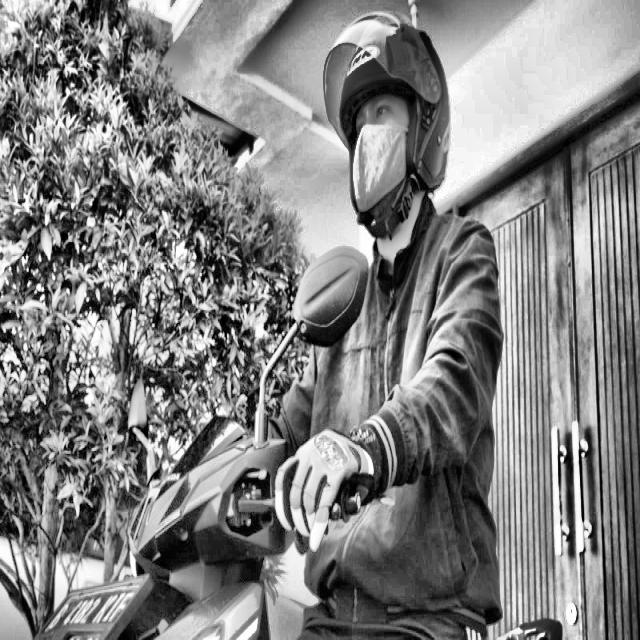Helmet: (312, 9, 459, 254)
